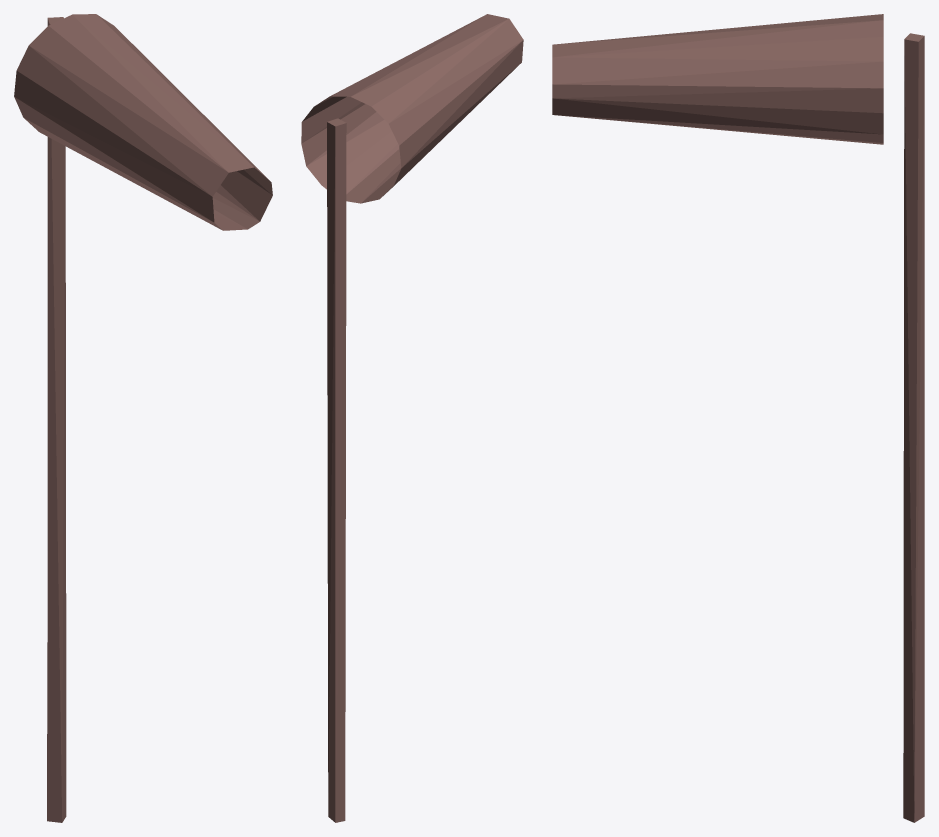
The model's file is windsock.lod2.glb.
The picture shows the model from 3 angles, left to right: view 1: azimuth 30°, elevation 25°; view 2: azimuth 150°, elevation 25°; view 3: azimuth 270°, elevation 25°; orthographic projection. The views are drawn at different scales.
Parts seen in each view (by area): view 1: Object_4; view 2: Object_4; view 3: Object_4.
Part boxes in pixels (bbox=[...]): Object_4: bbox=[14, 14, 272, 822]; Object_4: bbox=[301, 14, 523, 822]; Object_4: bbox=[552, 14, 924, 822].
Size of the model in its own units: 0.8826 by 6 by 2.54.
